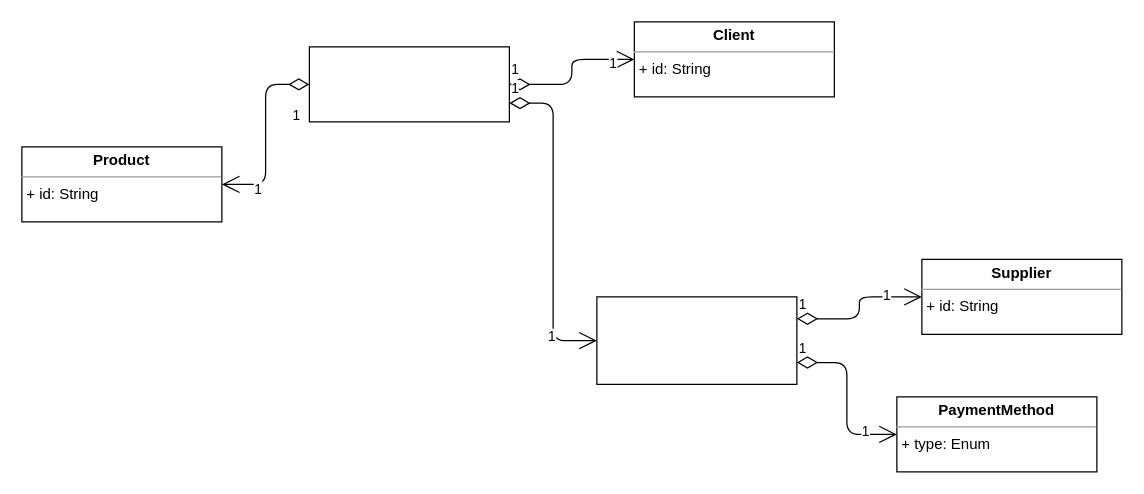
This 1144x494 diagram has some shape labels left out. The centre of each missing label's shape, as x and y in pixels:
Auction + id: String: point (408, 84)
Offer + amount: BigDecimal + occurred_time: DateTime: point (696, 340)
